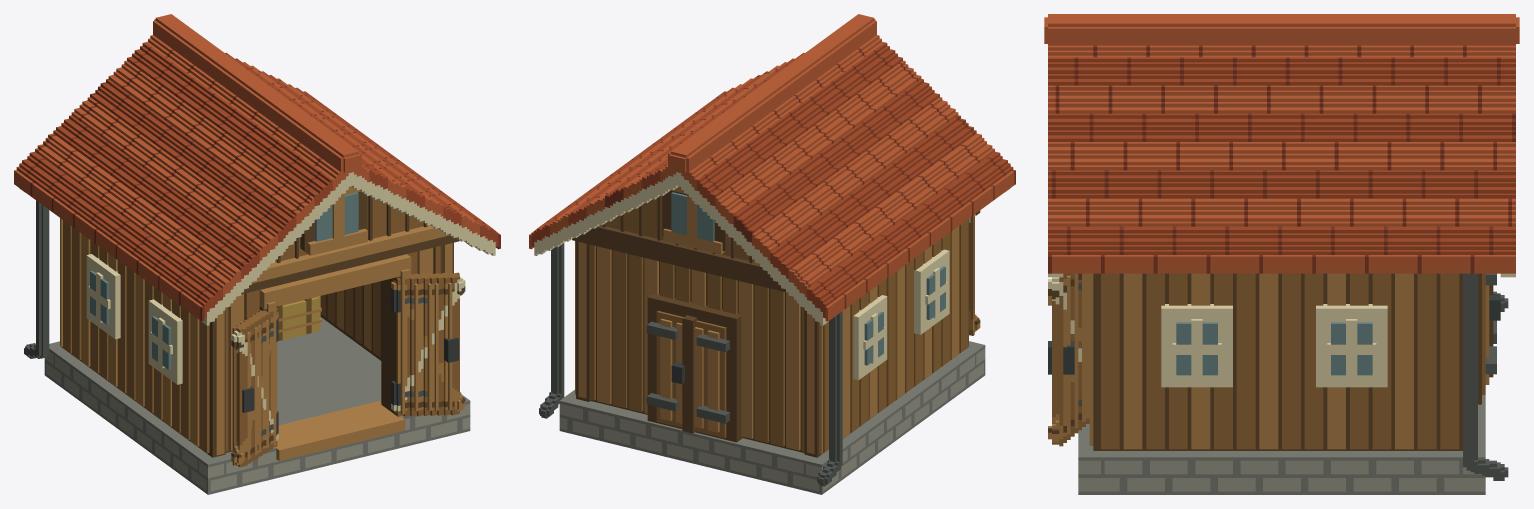
File: barn.glb
3 renders of one model, left to right at view 1: azimuth 30°, elevation 25°; view 2: azimuth 150°, elevation 25°; view 3: azimuth 270°, elevation 25°, orthographic. The views are drawn at different scales.
Parts seen in each view (by area): view 1: barn; view 2: barn; view 3: barn.
Boxes of the visible parts, <box> form: barn: <box>14,14,500,494</box>; barn: <box>529,14,1015,494</box>; barn: <box>1044,14,1519,494</box>.
Bounding box in the file's own units: 7.41 × 7.54 × 8.19.
